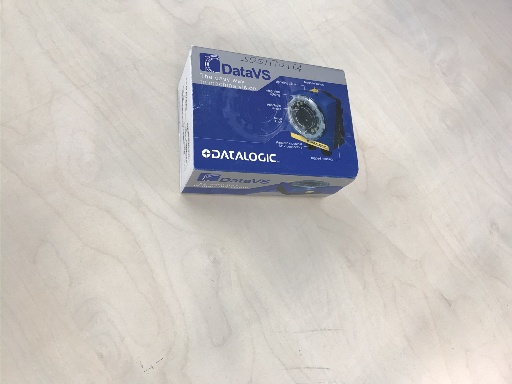Box: (176, 44, 359, 197)
